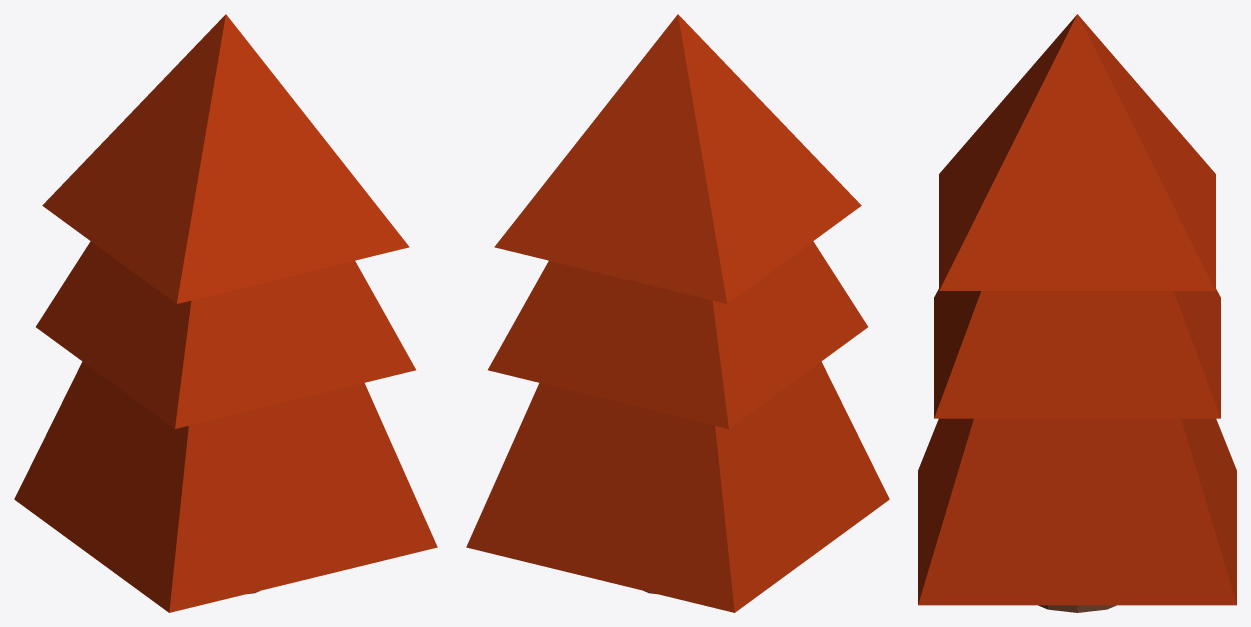
The model's file is Tree_18_summer_red_vc.fbx.
3 views of the same model, side by side, from view 1: azimuth 30°, elevation 25°; view 2: azimuth 150°, elevation 25°; view 3: azimuth 270°, elevation 25° (orthographic). The views are drawn at different scales.
Visible parts, largest first — view 1: Tree_18_summer_red_vc; view 2: Tree_18_summer_red_vc; view 3: Tree_18_summer_red_vc.
Part boxes in pixels (x1,y1,x2,y2): Tree_18_summer_red_vc: [14, 14, 437, 612]; Tree_18_summer_red_vc: [466, 14, 889, 612]; Tree_18_summer_red_vc: [918, 14, 1236, 612].
Bounding box in the file's own units: 95.96 × 191 × 95.96.
